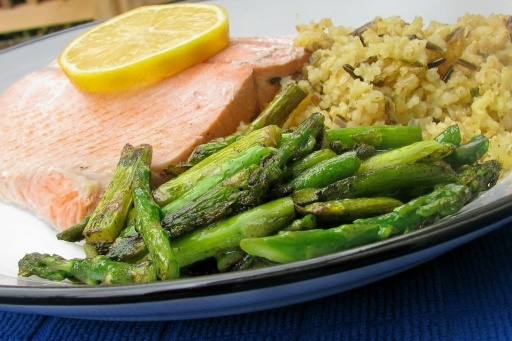background: (0, 1, 410, 152)
